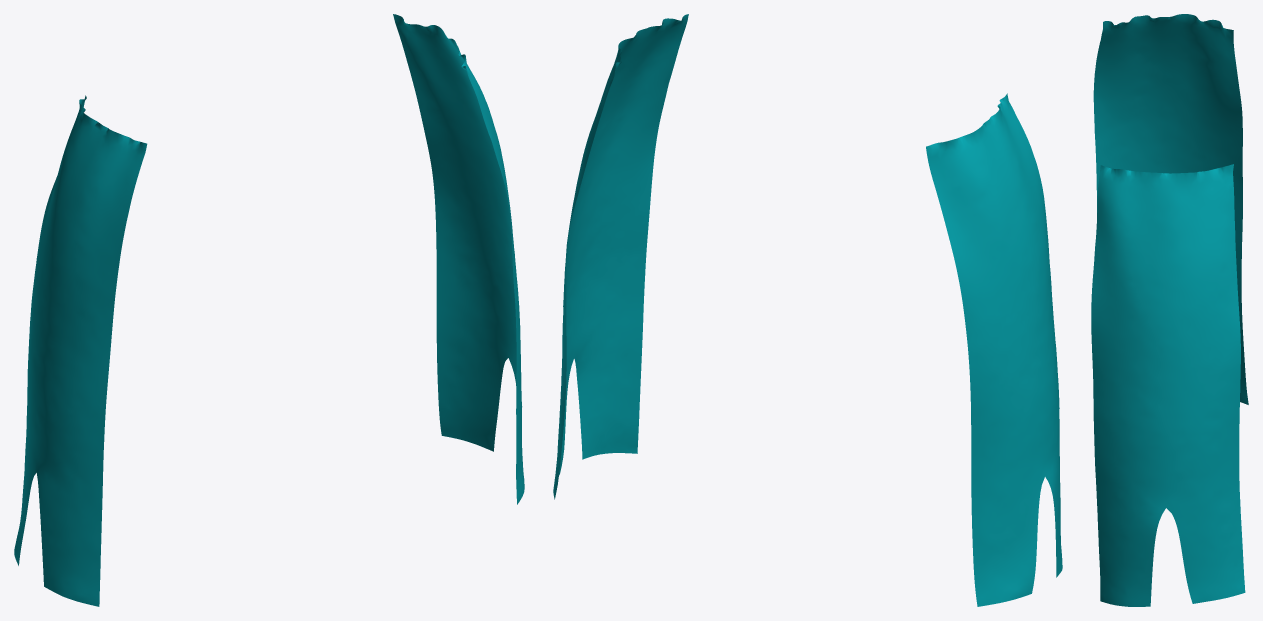
File: stripe_side-slit.glb
3 views of the same model, side by side, from view 1: azimuth 30°, elevation 25°; view 2: azimuth 150°, elevation 25°; view 3: azimuth 270°, elevation 25° (orthographic). The views are drawn at different scales.
Visible parts, largest first — view 1: stripe_side-slit; view 2: stripe_side-slit; view 3: stripe_side-slit.
Part boxes in pixels (x1,y1,x2,y2): stripe_side-slit: [14, 14, 524, 606]; stripe_side-slit: [553, 14, 1062, 606]; stripe_side-slit: [1091, 14, 1248, 606].
Size of the model in its own units: 2.11 by 1.92 by 0.6592.
